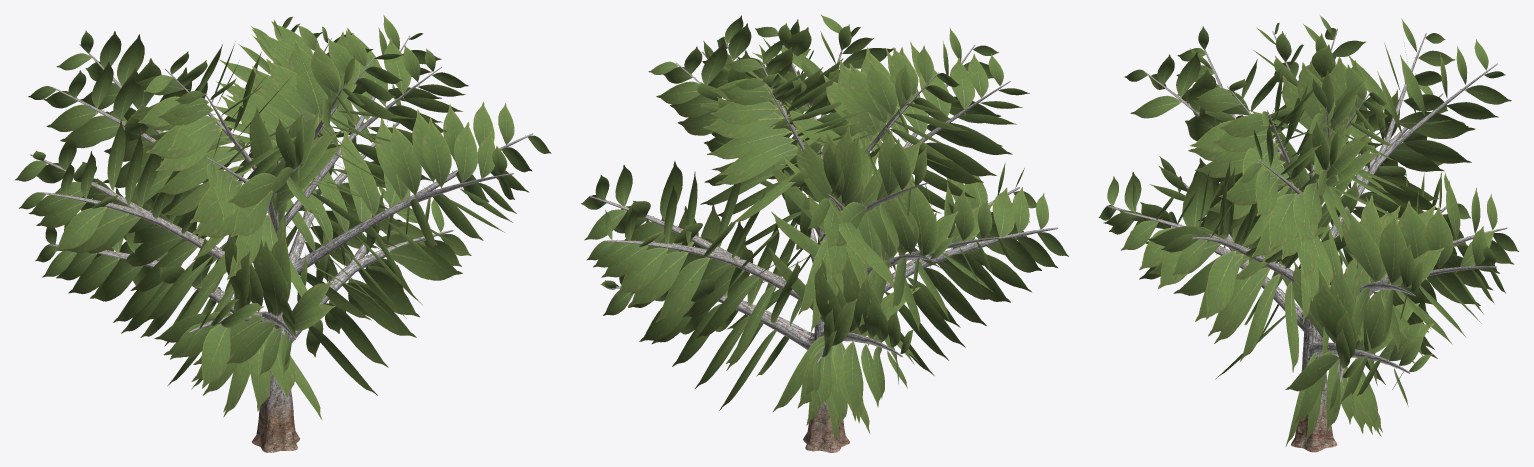
The model's file is tree.fbx.
The picture shows the model from 3 angles, left to right: view 1: azimuth 30°, elevation 25°; view 2: azimuth 150°, elevation 25°; view 3: azimuth 270°, elevation 25°; orthographic projection. The views are drawn at different scales.
Visible parts, largest first — view 1: Tree_1, Tree_0; view 2: Tree_1, Tree_0; view 3: Tree_1, Tree_0.
Boxes of the visible parts, x1,y1,x2,y2 form: Tree_1: (15,14,551,420); Tree_0: (30,35,533,452); Tree_1: (581,14,1068,444); Tree_0: (589,36,1057,452); Tree_1: (1098,14,1519,446); Tree_0: (1107,28,1507,452).
Size of the model in its own units: 267 by 242 by 238.
Materials: 2 (2 with a texture image).
